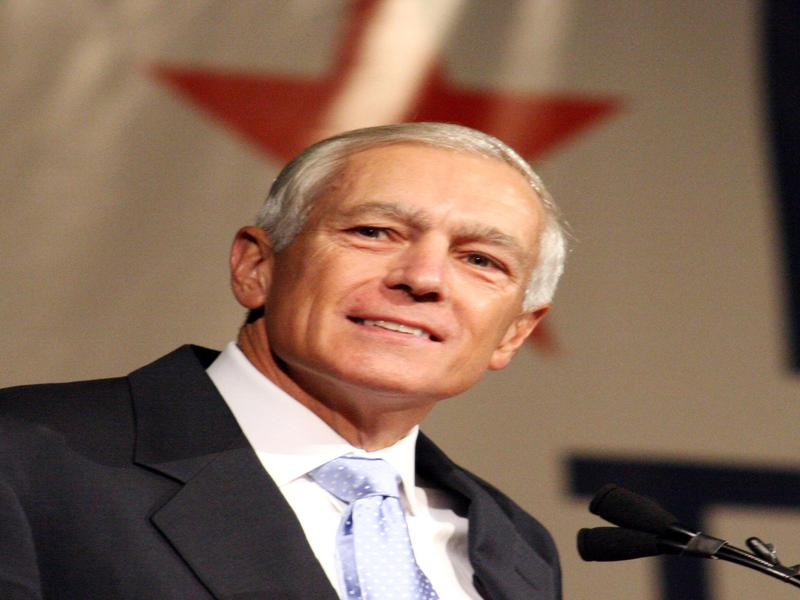person: (1, 110, 567, 596)
